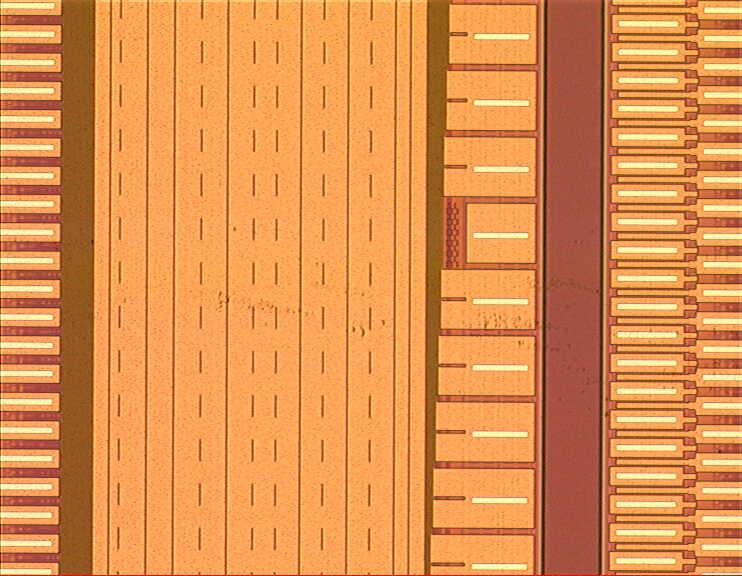PO CONTAMINATION: (180, 216, 623, 426)
